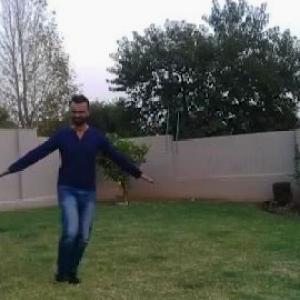land: (1, 103, 158, 279)
